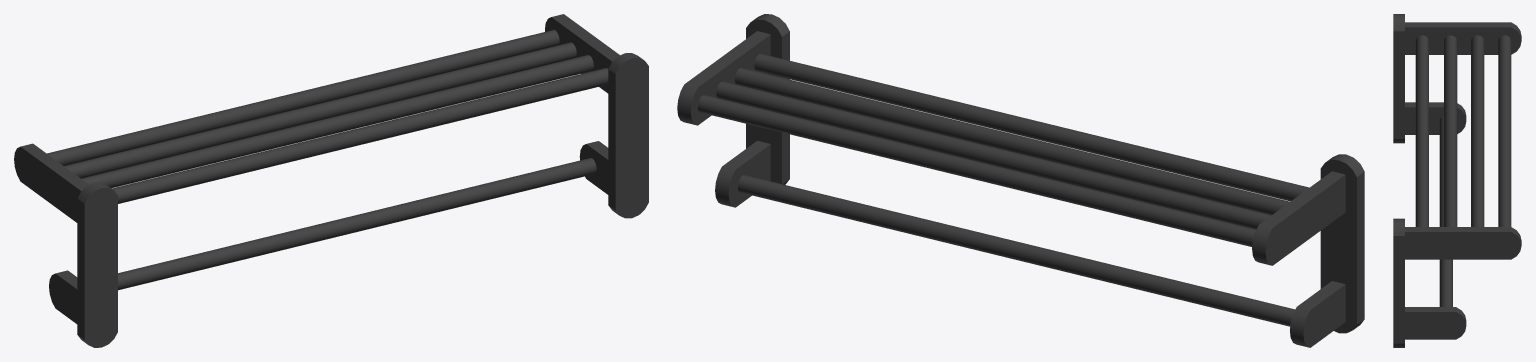
The model's file is TowelHanger04.fbx.
The picture shows the model from 3 angles, left to right: view 1: azimuth 30°, elevation 25°; view 2: azimuth 150°, elevation 25°; view 3: azimuth 270°, elevation 25°; orthographic projection. The views are drawn at different scales.
Visible parts, largest first — view 1: TowelHanger04; view 2: TowelHanger04; view 3: TowelHanger04.
Part boxes in pixels (x1,y1,x2,y2): TowelHanger04: (14, 14, 648, 347); TowelHanger04: (677, 14, 1364, 347); TowelHanger04: (1393, 14, 1521, 347).
Size of the model in its own units: 84.15 by 22.76 by 20.95.
